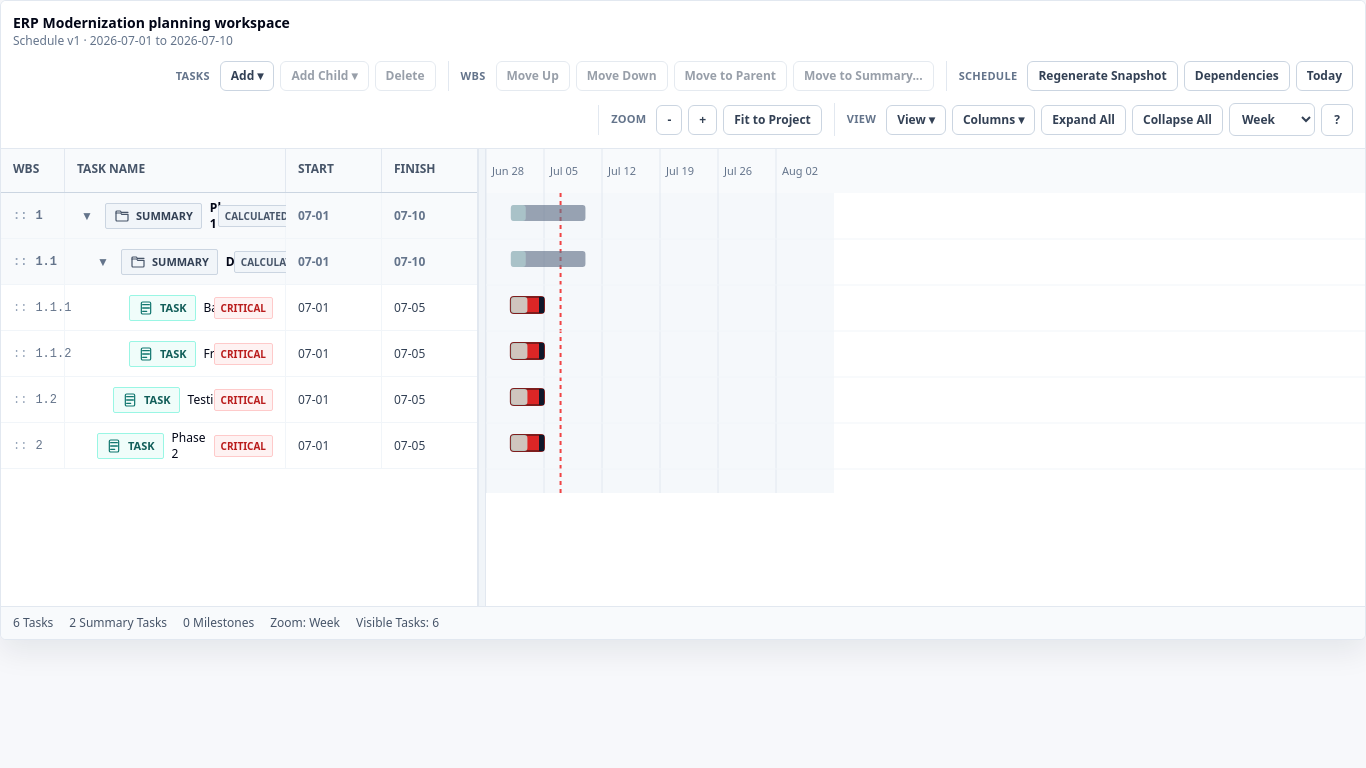
Scenario: PlanningWorkspace › supports nested WBS collapse and expand without changing numbering
expect the row named "1 Phase 1" is shown: met, box [1, 193, 478, 239]
expect the row named "1.1 Development" is shown: met, box [1, 239, 478, 285]
Click the button named "collapse development". click: click(103, 262)
box: [93, 252, 113, 272]
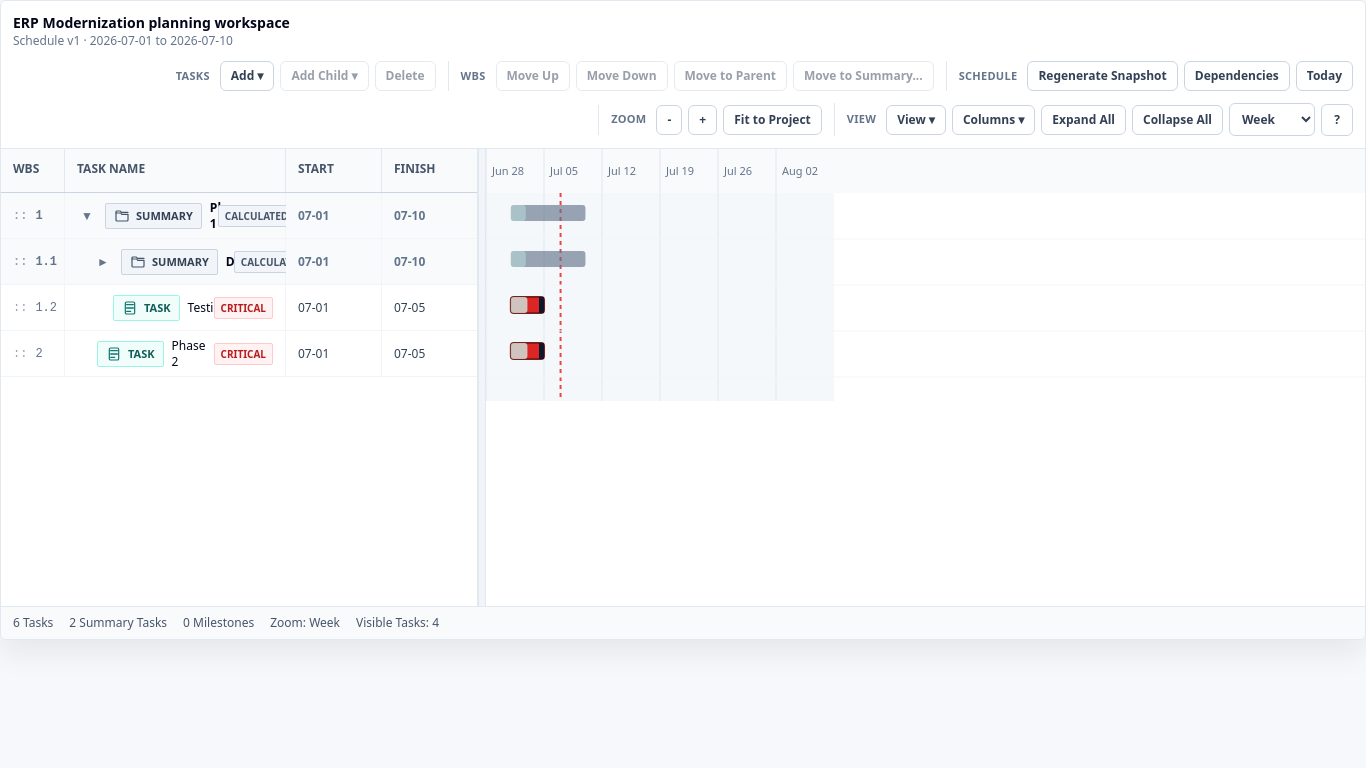
expect the row named "1.2 Testing" is shown: met, box [1, 285, 478, 331]
expect the text "1.1.1 Backend" is gone: met
Click the button named "collapse phase 1". click: click(87, 216)
box: [77, 206, 97, 226]
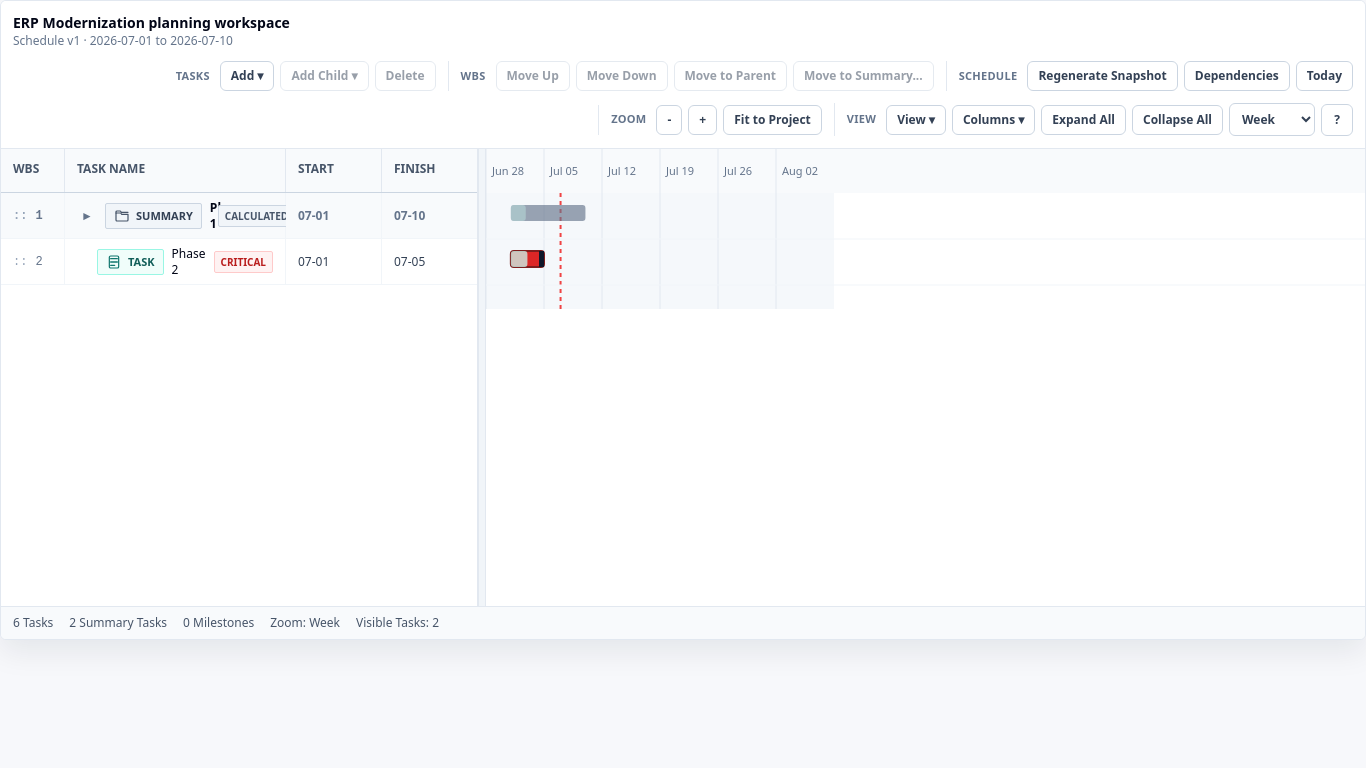
expect the row named "2 Phase 2" is shown: met, box [1, 239, 478, 285]
expect the text "1.2 Testing" is gone: met
Click the button named "expand phase 1". click: click(87, 216)
box: [77, 206, 97, 226]
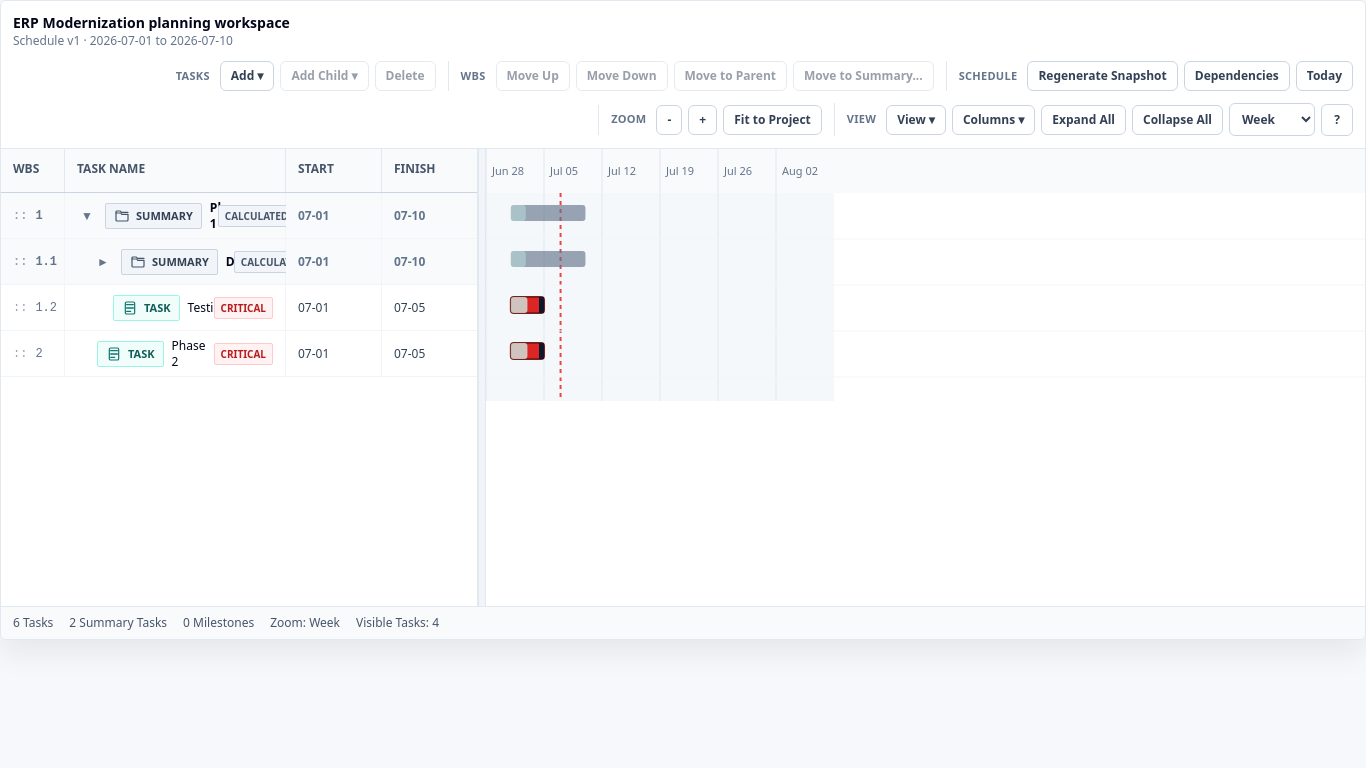
expect the text "1.1.1 Backend" is not shown: met
expect the row named "1.1 Development" is shown: met, box [1, 239, 478, 285]
Click the button named "expand development". click: click(103, 262)
box: [93, 252, 113, 272]
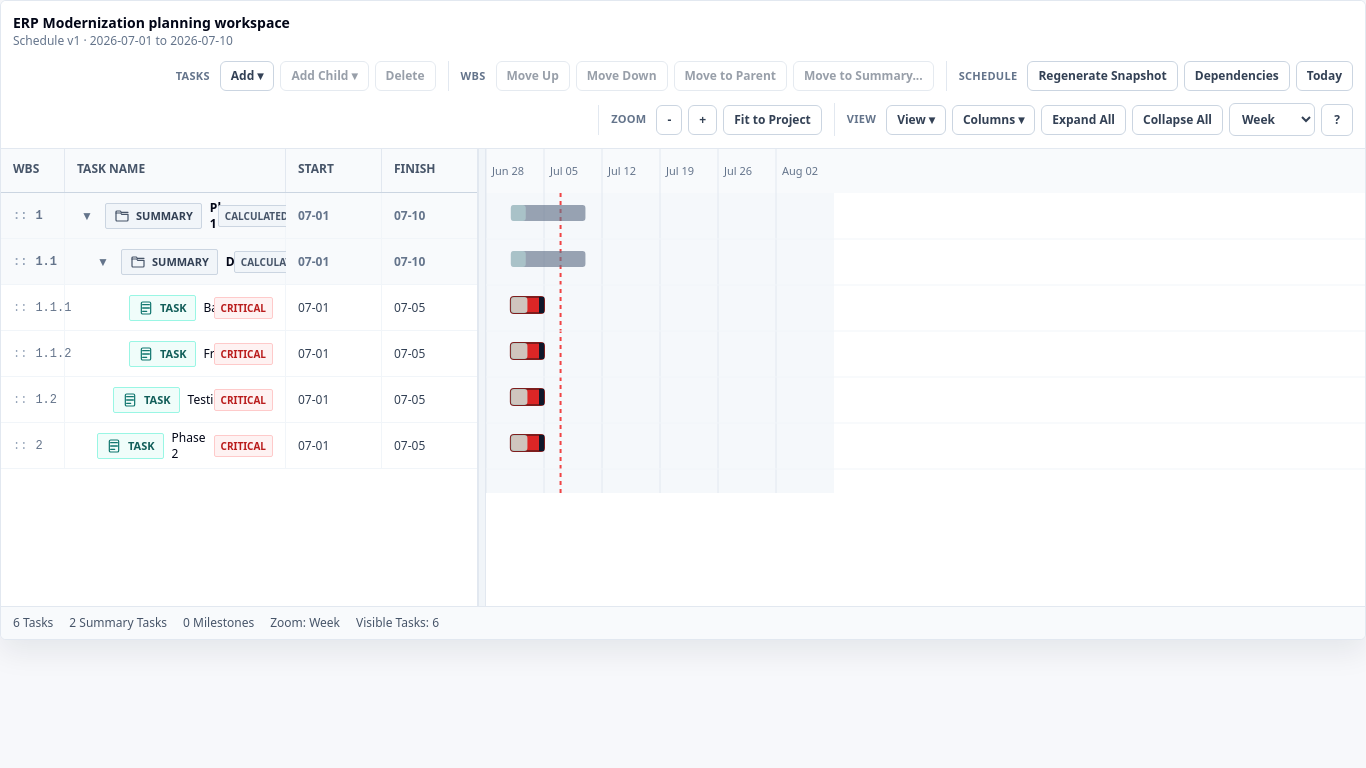
expect the row named "1.1.1 Backend" is shown: met, box [1, 285, 478, 331]
